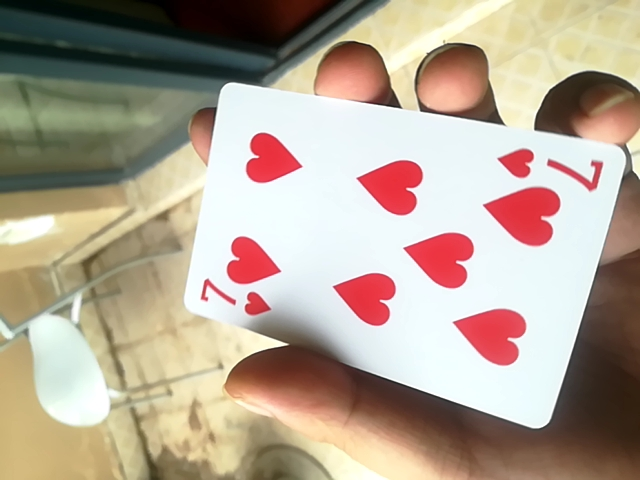hx 7: (178, 78, 627, 430)
